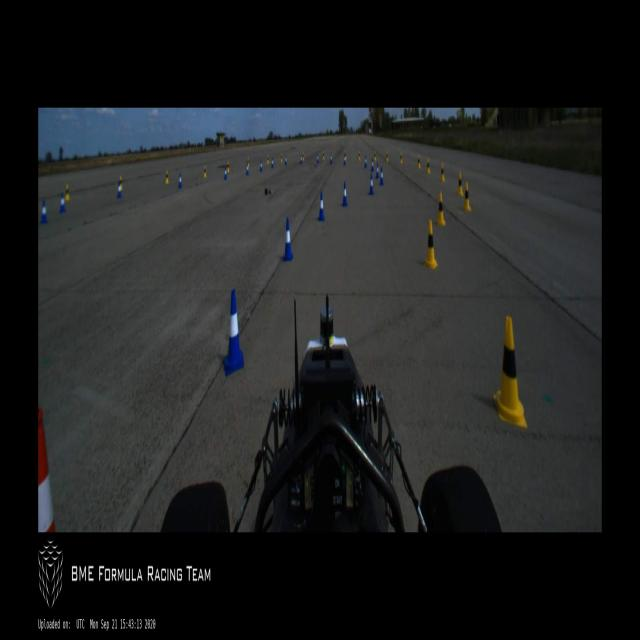blue_cone: (224, 290, 244, 376), (282, 218, 293, 262), (318, 190, 325, 222), (41, 200, 48, 223), (342, 182, 348, 206), (60, 192, 66, 213), (369, 173, 374, 194), (379, 167, 384, 185), (117, 181, 122, 198), (178, 172, 182, 188), (376, 162, 379, 178), (371, 158, 374, 172), (224, 166, 227, 180), (364, 155, 367, 168), (246, 163, 249, 175), (260, 160, 262, 172), (272, 157, 274, 168), (344, 154, 346, 164), (330, 154, 332, 164), (317, 153, 319, 163), (300, 154, 302, 164), (285, 156, 287, 164)
large_orange_cone: (38, 407, 56, 532)
yellow_cone: (493, 316, 527, 427), (424, 220, 438, 270), (437, 192, 445, 226), (463, 182, 471, 212), (457, 172, 463, 197), (440, 164, 445, 181), (65, 183, 69, 201), (426, 158, 430, 175), (119, 175, 123, 190), (417, 154, 421, 169), (358, 151, 361, 160), (204, 165, 206, 178), (400, 152, 402, 165), (166, 171, 168, 183), (227, 160, 229, 172), (374, 150, 376, 162), (386, 150, 388, 162), (248, 157, 250, 168), (266, 154, 268, 163), (280, 154, 282, 163), (322, 151, 324, 160), (344, 151, 346, 160), (303, 152, 304, 162)
